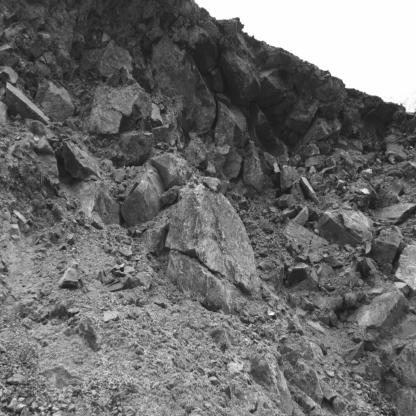stone: (166, 188, 262, 299), (162, 251, 248, 317), (120, 167, 166, 227), (316, 207, 375, 246), (6, 82, 52, 126), (35, 79, 74, 123), (63, 141, 101, 180), (152, 153, 193, 188), (99, 39, 134, 80), (370, 225, 403, 264), (393, 242, 416, 293), (242, 140, 264, 192), (140, 223, 168, 258), (280, 165, 301, 190), (300, 177, 318, 204), (58, 268, 78, 287), (298, 144, 319, 162), (199, 176, 222, 192), (161, 187, 180, 205), (294, 206, 309, 226), (305, 155, 326, 169), (216, 94, 231, 106), (381, 263, 393, 277), (206, 161, 216, 173), (337, 180, 346, 189)
